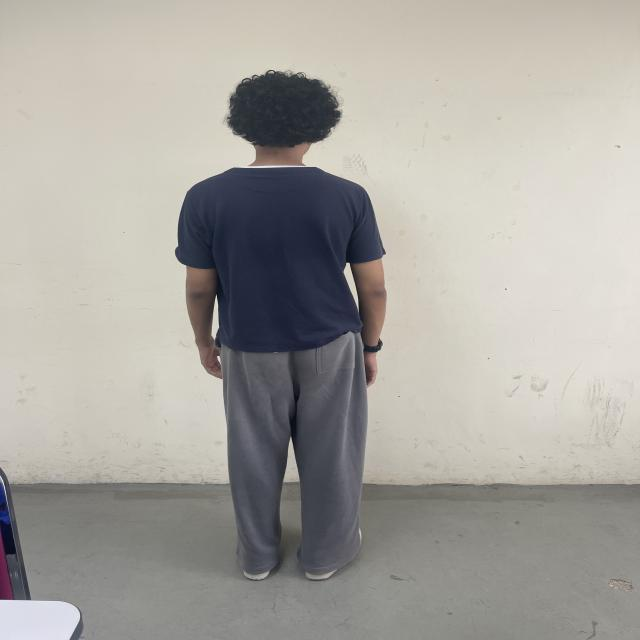person_without_labcoat: (176, 70, 386, 580)
